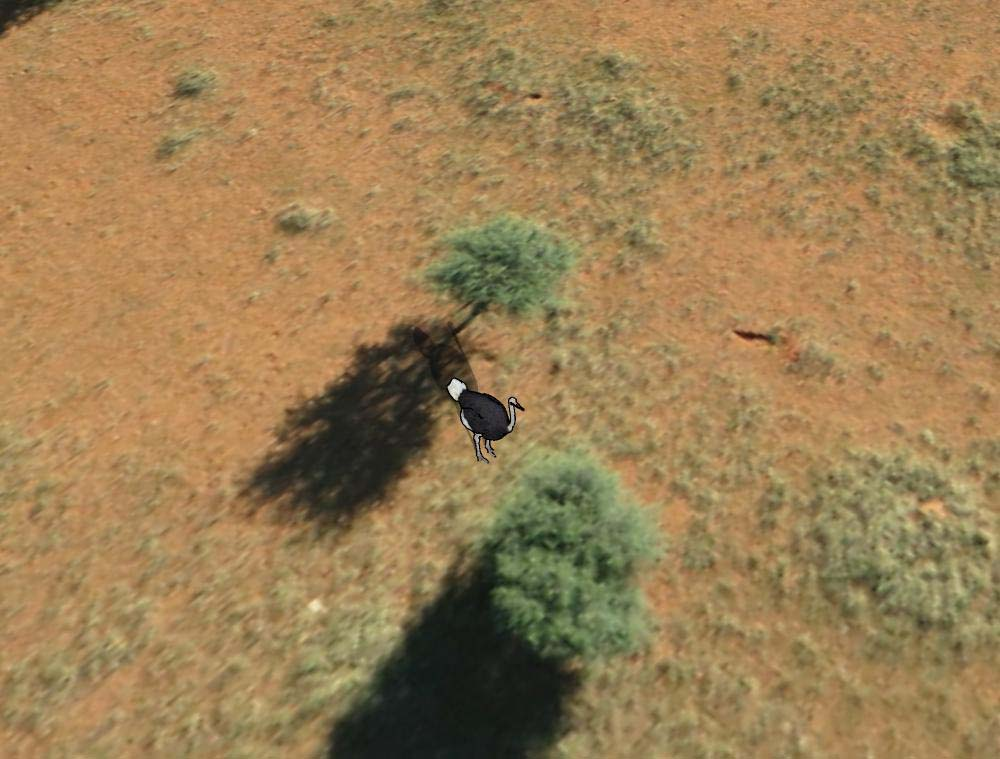ostrich: (448, 373, 527, 465)
